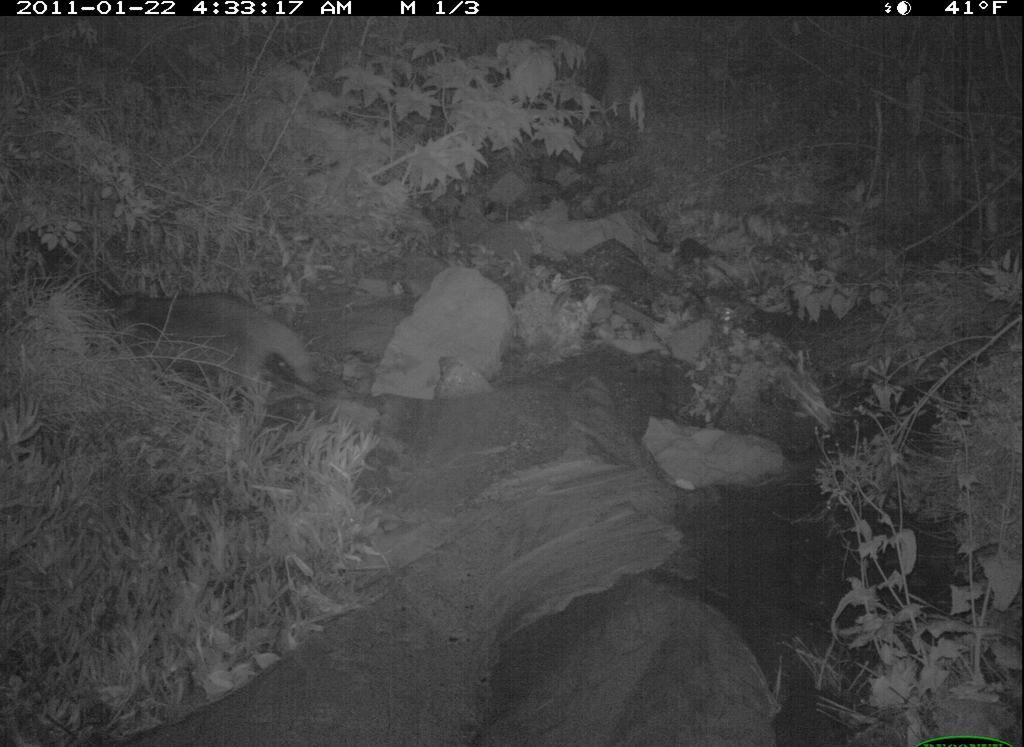raccoon: (91, 272, 326, 410)
